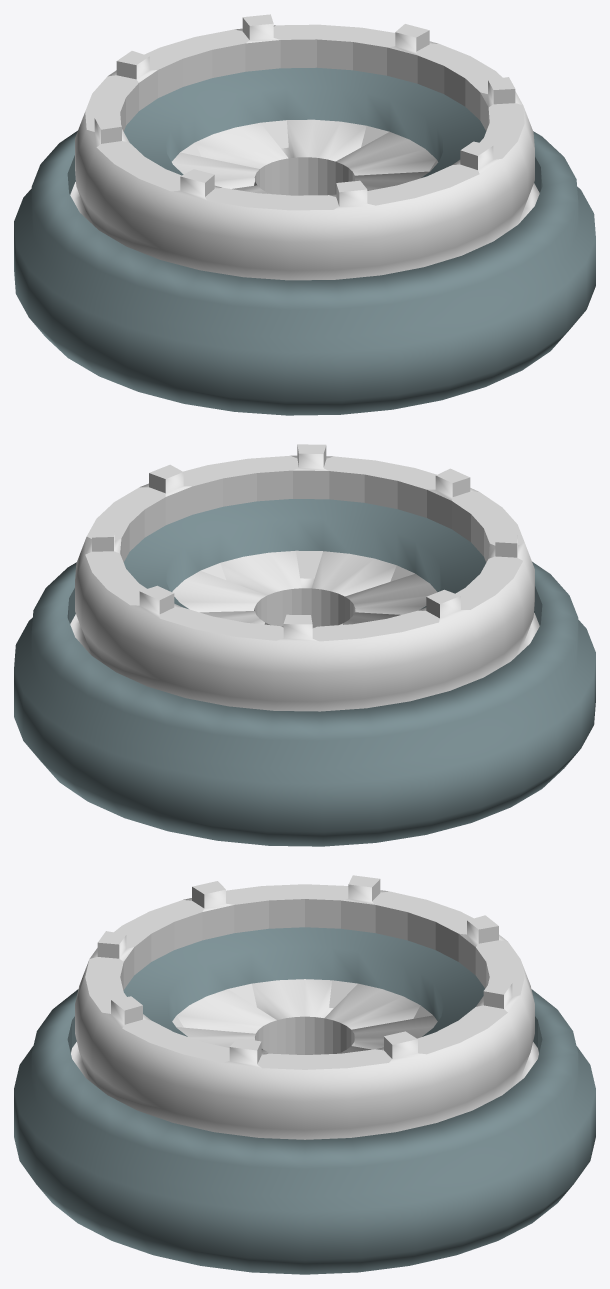
File: flashllight.fbx
3 renders of one model, top to bottom at view 1: azimuth 30°, elevation 25°; view 2: azimuth 150°, elevation 25°; view 3: azimuth 270°, elevation 25°, orthographic.
Visible parts, largest first — view 1: flashlight; view 2: flashlight; view 3: flashlight.
Boxes of the visible parts, bbox=[...] form: flashlight: bbox=[14, 14, 595, 415]; flashlight: bbox=[14, 444, 595, 846]; flashlight: bbox=[14, 875, 595, 1274].
Bounding box in the file's own units: 13.09 × 4.87 × 13.09.
